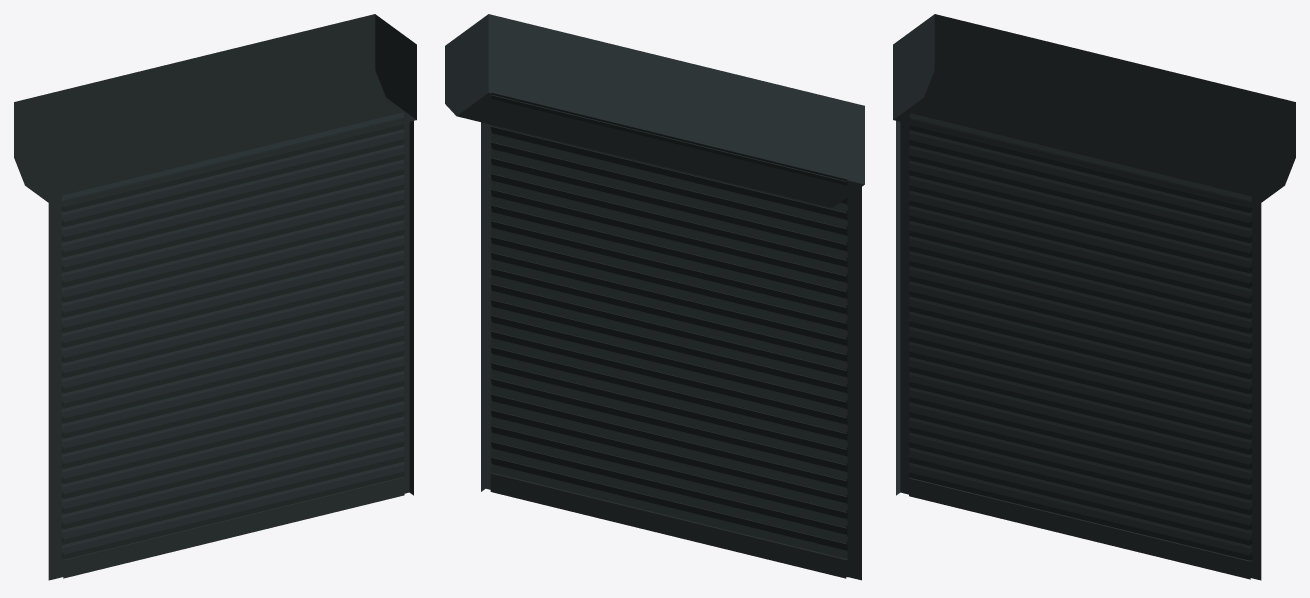
3 views of the same model, side by side, from view 1: azimuth 30°, elevation 25°; view 2: azimuth 150°, elevation 25°; view 3: azimuth 330°, elevation 25° (orthographic). The views are drawn at different scales.
Parts seen in each view (by area): view 1: volet, lame_2, lame, lame_3, lame_5, lame_1, lame_17, lame_4, lame_6, lame_final; view 2: volet, lame_17, lame_4, lame_2, lame, lame_5, lame_3, lame_1, lame_6, lame_final; view 3: volet, lame_1, lame_4, lame, lame_17, lame_3, lame_2, lame_5, lame_6, lame_final.
Boxes of the visible parts, bbox=[...] form: volet: bbox=[14, 14, 416, 580]; lame_2: bbox=[61, 295, 404, 423]; lame: bbox=[61, 386, 404, 514]; lame_3: bbox=[61, 250, 404, 378]; lame_5: bbox=[61, 159, 404, 287]; lame_1: bbox=[61, 341, 404, 469]; lame_17: bbox=[61, 431, 404, 559]; lame_4: bbox=[61, 205, 404, 333]; lame_6: bbox=[61, 112, 404, 242]; lame_final: bbox=[61, 477, 404, 578]; volet: bbox=[445, 14, 864, 580]; lame_17: bbox=[490, 425, 848, 558]; lame_4: bbox=[490, 189, 848, 322]; lame_2: bbox=[490, 283, 848, 417]; lame: bbox=[490, 378, 848, 511]; lame_5: bbox=[490, 142, 848, 275]; lame_3: bbox=[490, 236, 848, 369]; lame_1: bbox=[490, 331, 848, 464]; lame_6: bbox=[490, 93, 848, 227]; lame_final: bbox=[490, 472, 848, 578]; volet: bbox=[893, 14, 1295, 580]; lame_1: bbox=[909, 342, 1252, 470]; lame_4: bbox=[909, 206, 1252, 333]; lame: bbox=[909, 387, 1251, 515]; lame_17: bbox=[909, 432, 1252, 560]; lame_3: bbox=[909, 251, 1251, 379]; lame_2: bbox=[909, 296, 1252, 424]; lame_5: bbox=[909, 160, 1252, 288]; lame_6: bbox=[909, 113, 1251, 243]; lame_final: bbox=[909, 478, 1252, 579].
Size of the model in its own units: 100 by 120 by 20.
Materials: 1 (1 with a texture image).
